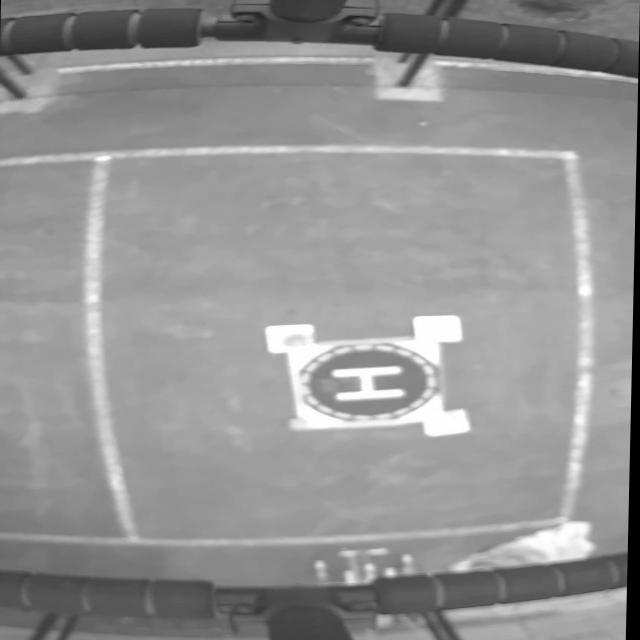Helipad: (331, 366, 406, 402)
